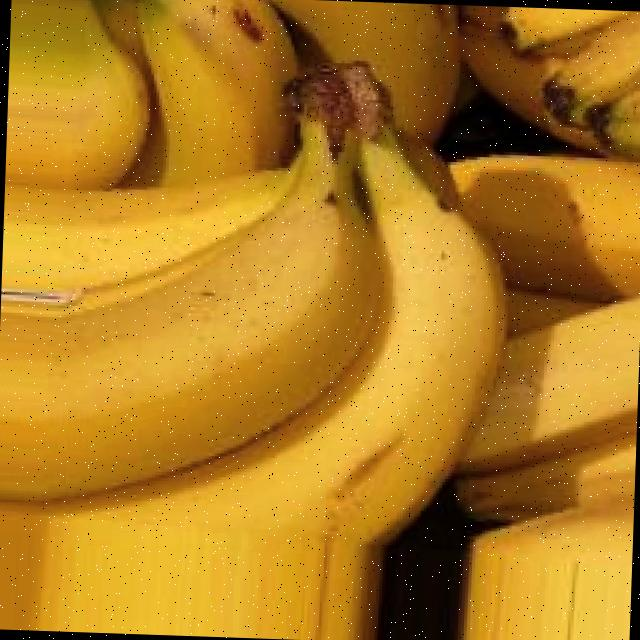banana: (22, 66, 529, 572)
